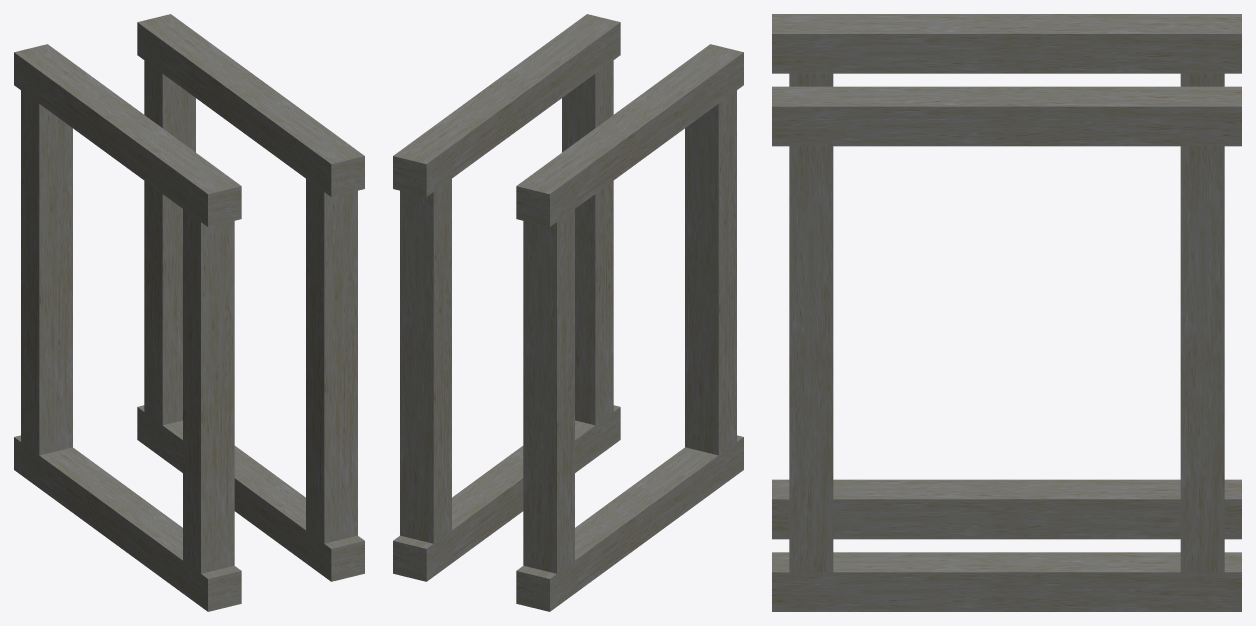
File: mWFrame02Concrete01.obj
3 views of the same model, side by side, from view 1: azimuth 30°, elevation 25°; view 2: azimuth 150°, elevation 25°; view 3: azimuth 270°, elevation 25° (orthographic). The views are drawn at different scales.
Visible parts, largest first — view 1: WFrame02Concrete01; view 2: WFrame02Concrete01; view 3: WFrame02Concrete01.
Boxes of the visible parts, x1,y1,x2,y2 form: WFrame02Concrete01: (14, 14, 364, 611); WFrame02Concrete01: (393, 14, 743, 611); WFrame02Concrete01: (772, 14, 1241, 611).
Bounding box in the file's own units: 0.7 × 1.78 × 1.5.
